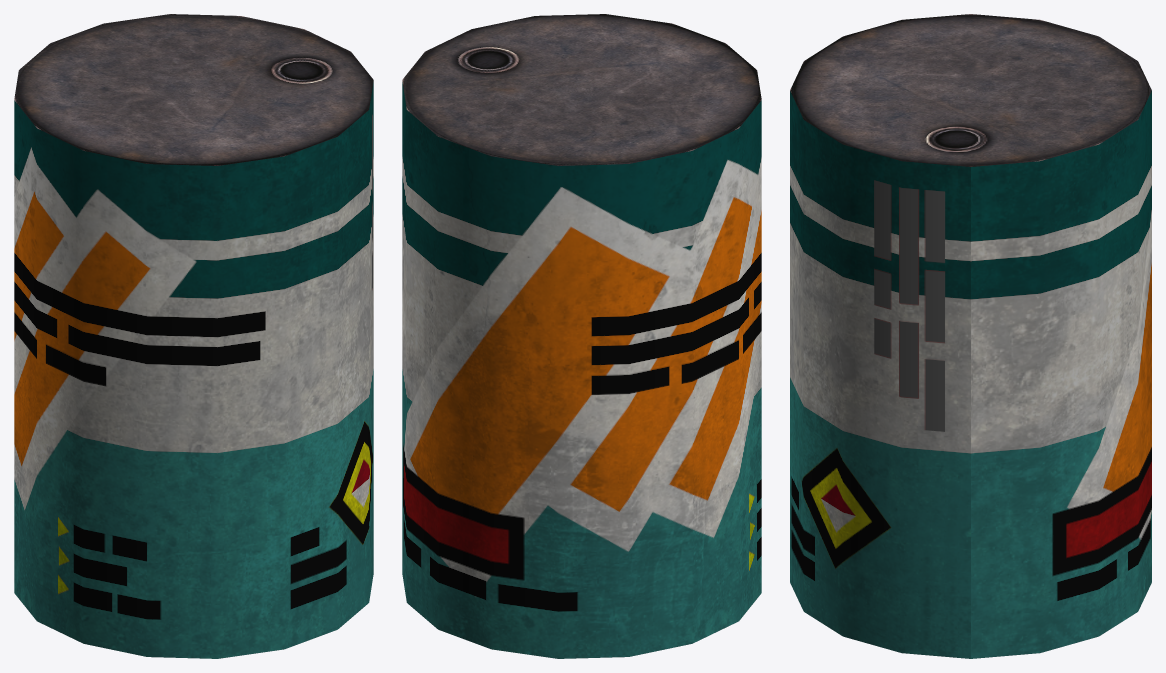
File: TestOilBarrel.gltf
The picture shows the model from 3 angles, left to right: view 1: azimuth 30°, elevation 25°; view 2: azimuth 150°, elevation 25°; view 3: azimuth 270°, elevation 25°; orthographic projection.
Visible parts, largest first — view 1: OilBarrel; view 2: OilBarrel; view 3: OilBarrel.
Part boxes in pixels (<box>): OilBarrel: <box>14,14,373,658</box>; OilBarrel: <box>402,14,761,658</box>; OilBarrel: <box>790,14,1151,658</box>.
Bounding box in the file's own units: 2 × 3 × 2.
Materials: 1 (1 with a texture image).
